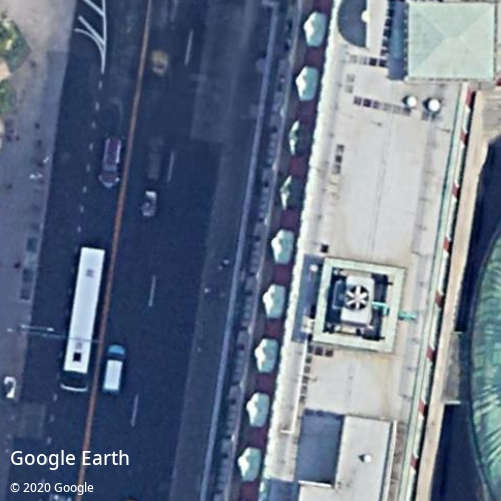Vent: (344, 284, 369, 312)
